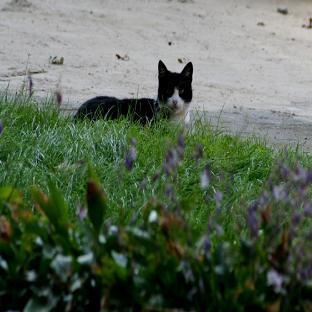Animal: (75, 60, 192, 124)
